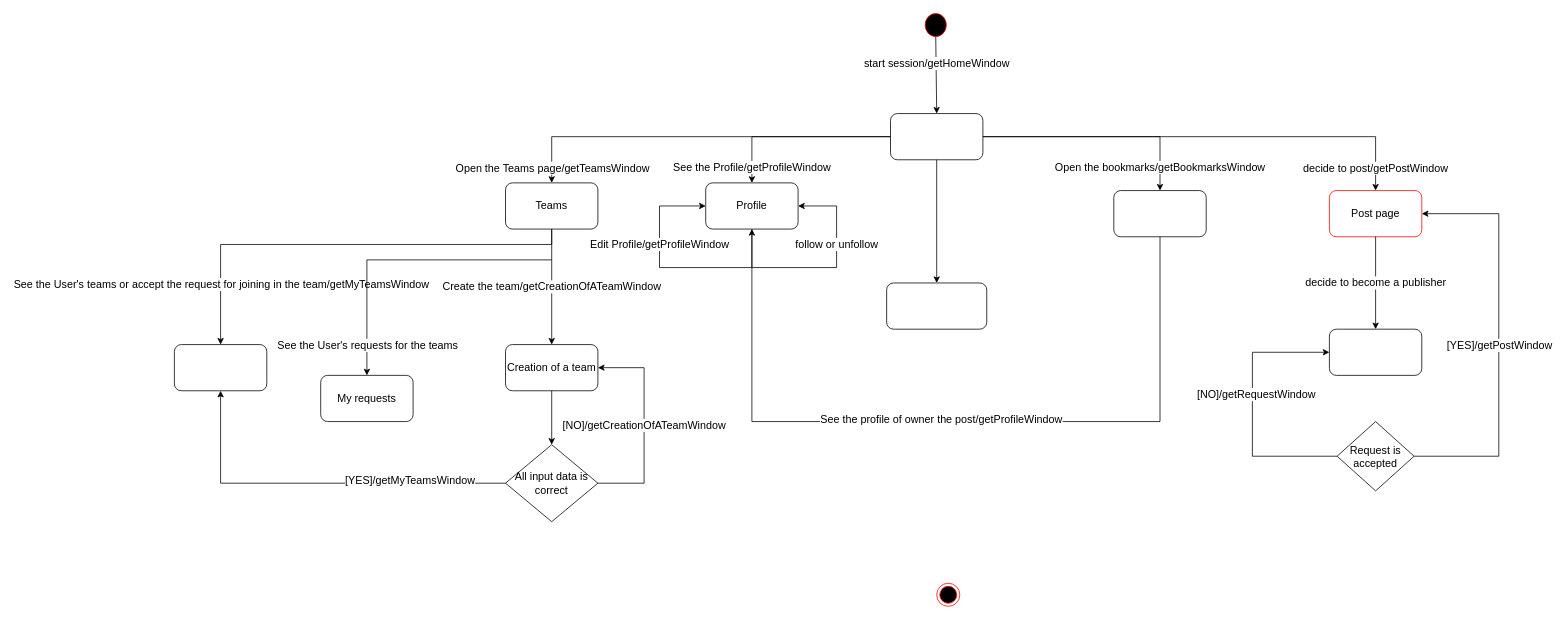
The diagram is 1565 pixels wide and 620 high, and some of its shapes have lost their labels. The centre of each missing label's shape, as x and y in pixels:
Bookmarks: the point at 1159,213
Home page: the point at 936,136
My teams: the point at 220,367
Request: the point at 1375,351
